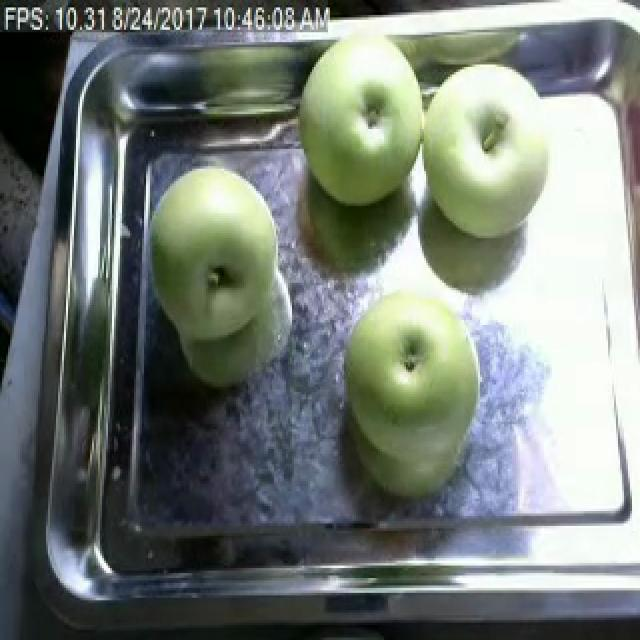50-_ripeness: (342, 292, 497, 460), (147, 164, 294, 340), (288, 31, 423, 222), (422, 68, 558, 247)
